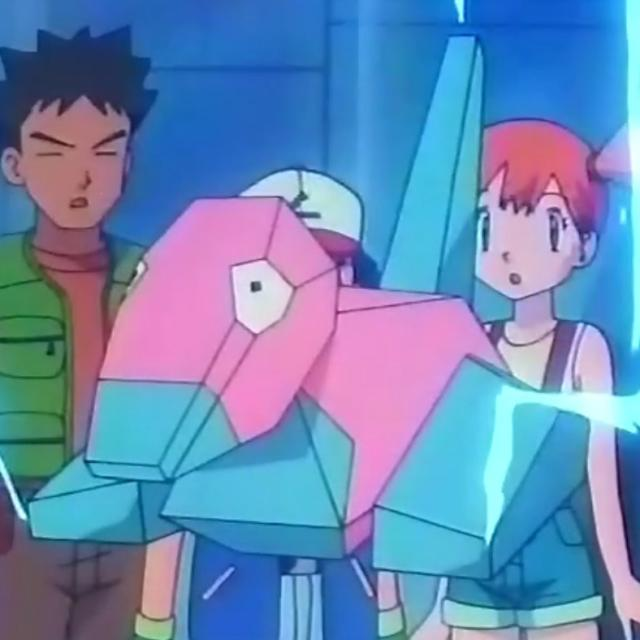Porygon: (72, 199, 527, 566)
